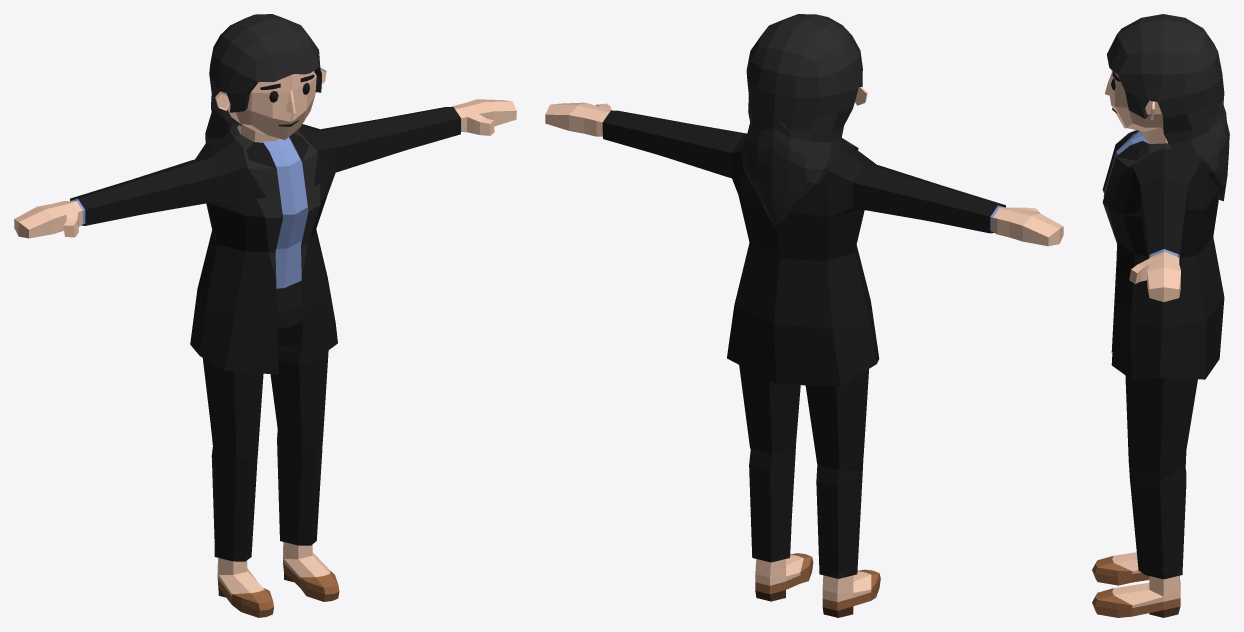
The model's file is npc_receptionist_accessories.fbx.
The picture shows the model from 3 angles, left to right: view 1: azimuth 30°, elevation 25°; view 2: azimuth 150°, elevation 25°; view 3: azimuth 270°, elevation 25°; orthographic projection. The views are drawn at different scales.
Parts seen in each view (by area): view 1: blazer, torso, hair, head; view 2: blazer, torso, hair; view 3: blazer, torso, hair, head.
Part boxes in pixels (x1,y1,x2,y2): blazer: [70, 107, 460, 374]; torso: [14, 99, 516, 617]; hair: [205, 14, 321, 142]; head: [225, 71, 316, 139]; blazer: [602, 110, 1005, 385]; torso: [545, 102, 1063, 617]; hair: [742, 14, 862, 225]; blazer: [1102, 130, 1224, 379]; torso: [1092, 127, 1197, 617]; hair: [1107, 14, 1229, 201]; head: [1105, 70, 1163, 131].
Size of the model in its own units: 616 by 674 by 146.
